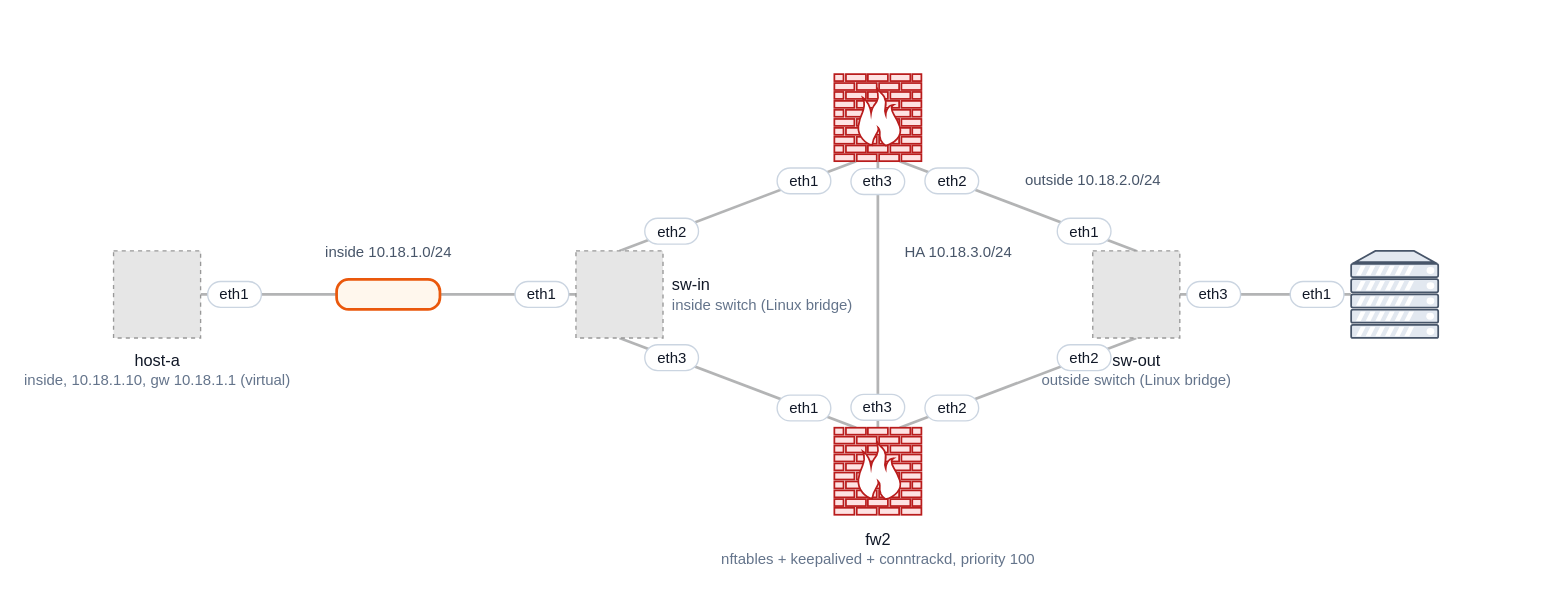
Image size: 1565x593. Some labels were removed from this diagram. Grey dashed boxes stand in for pictures. The box of each missing label's shape, as (x1, y1, x2, y2) in pixels:
capture: (335, 277, 441, 310)
fw1 nftables + keepalived + conntrackd, priority 150: (832, 72, 922, 162)
host-b outside, 10.18.2.20, web :80, sessions :7000: (1349, 249, 1439, 339)
